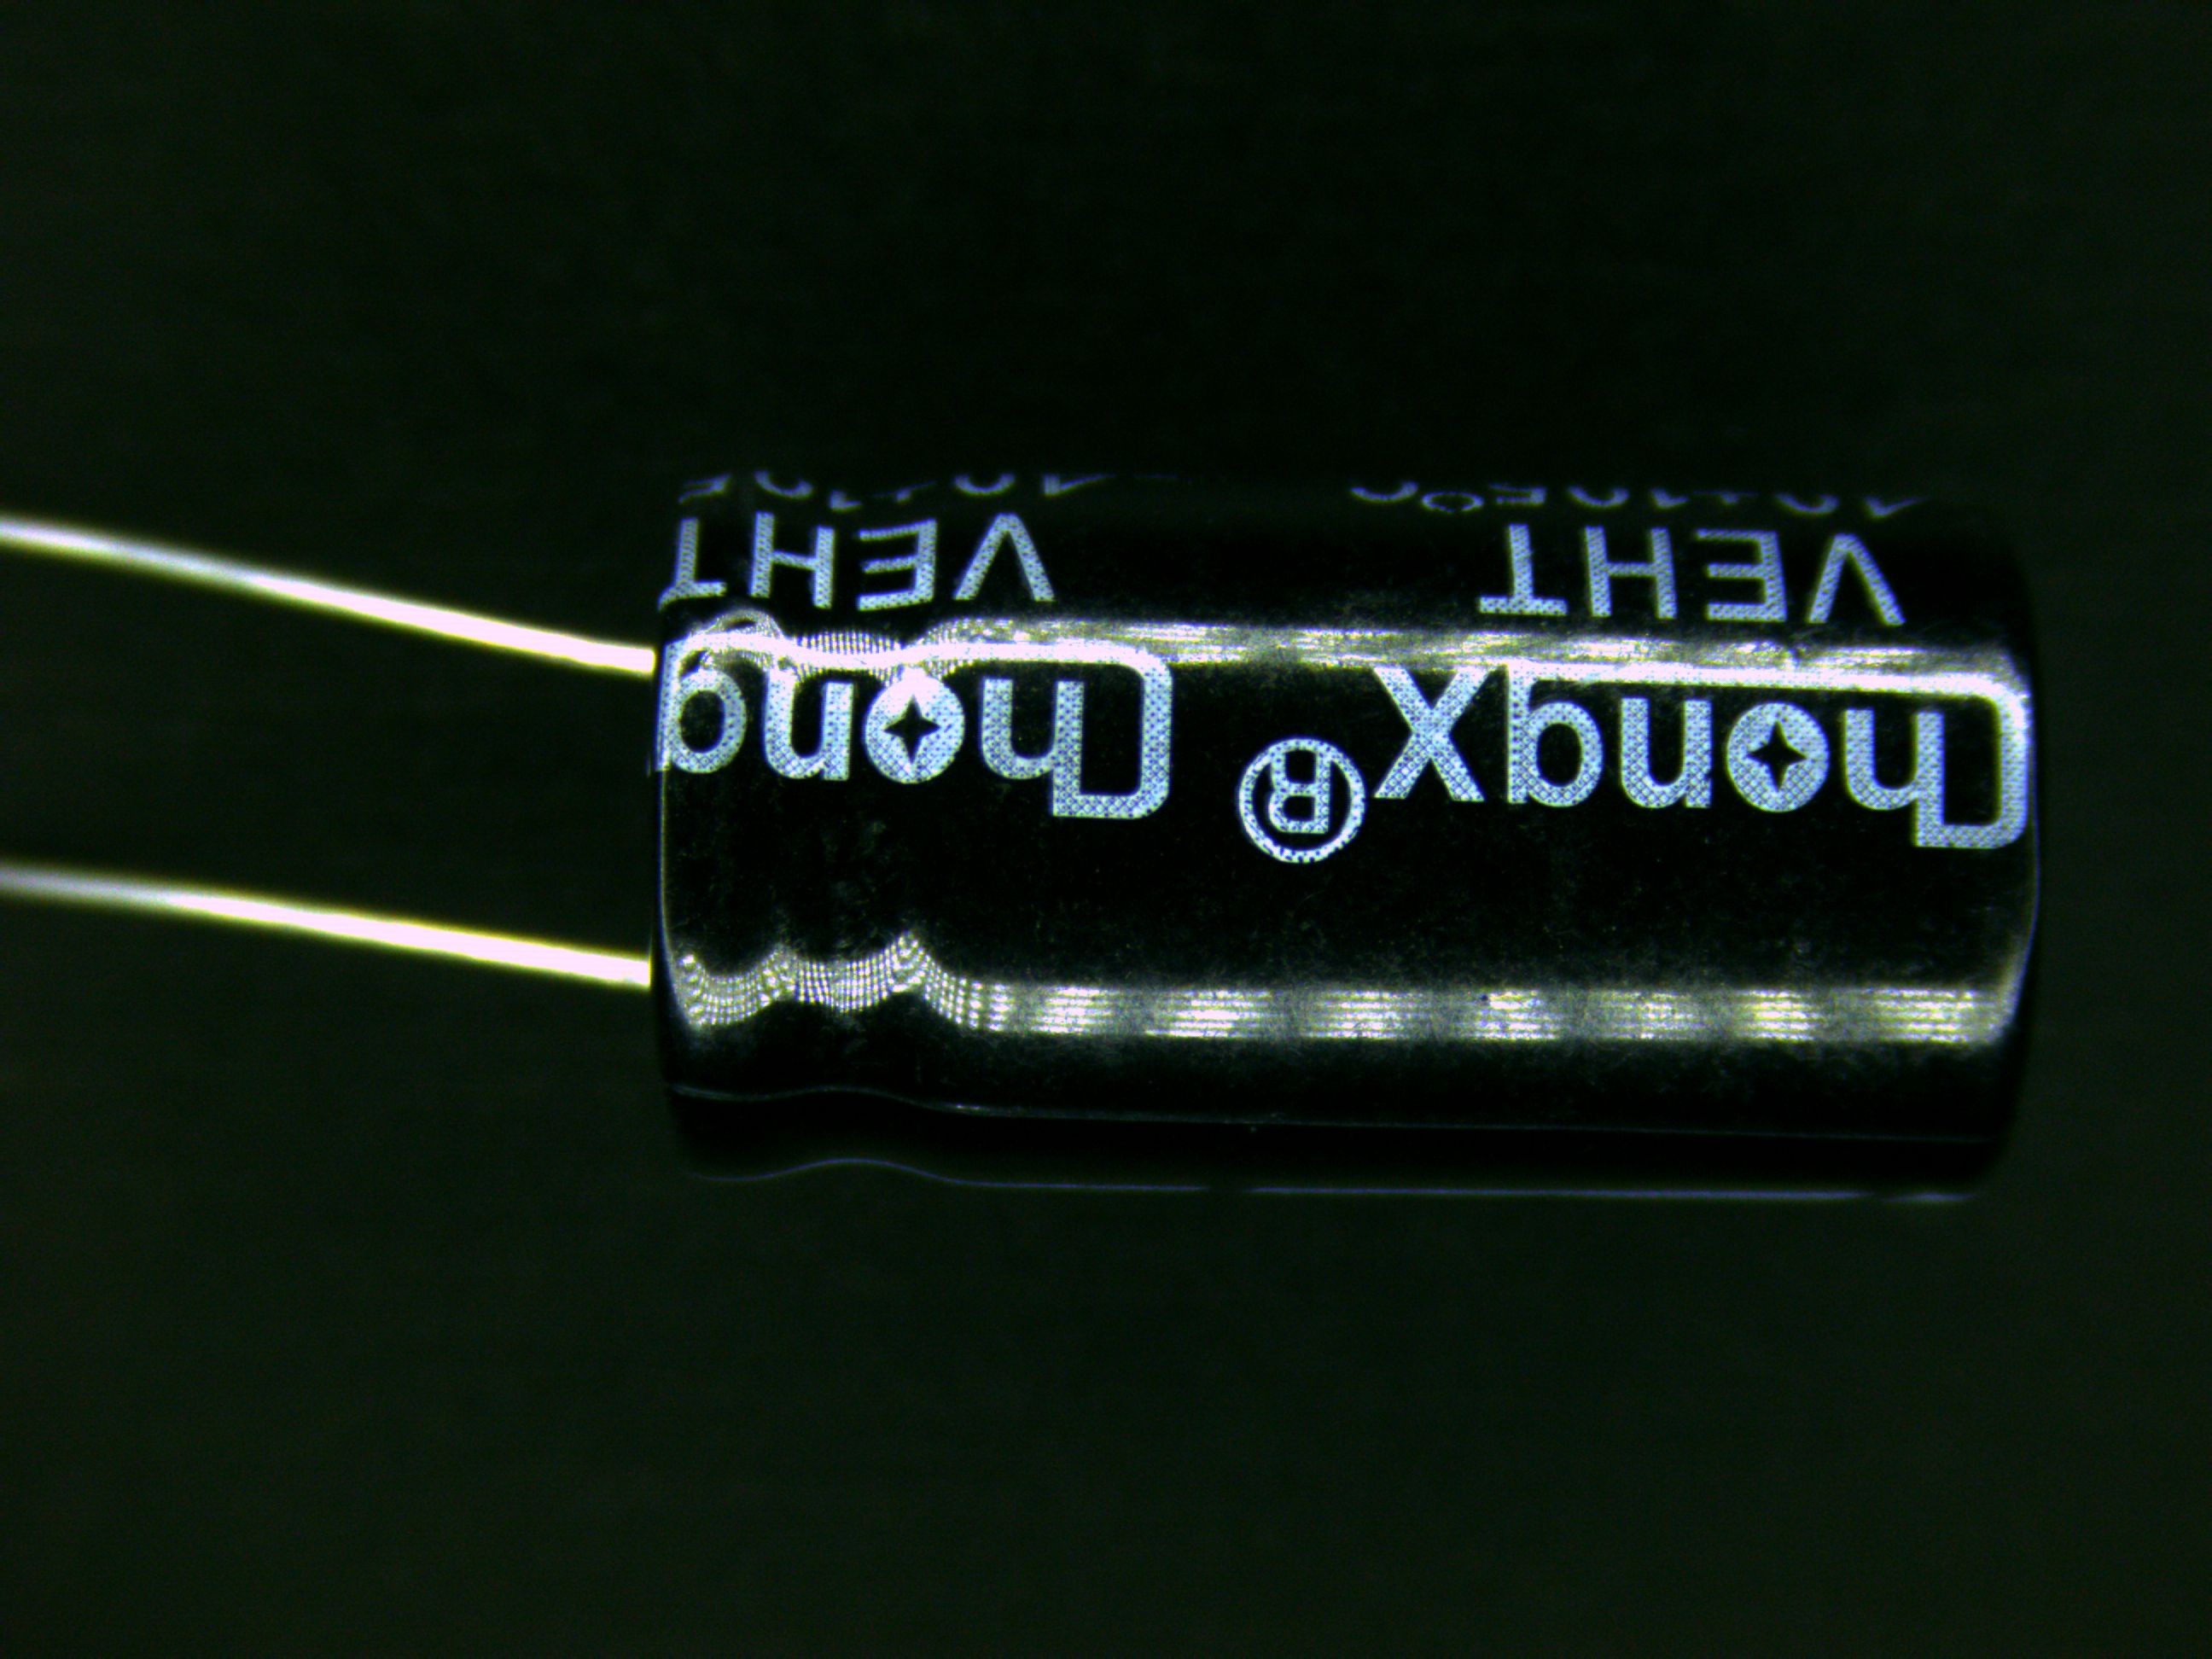c3: (394, 458, 2054, 1202)
